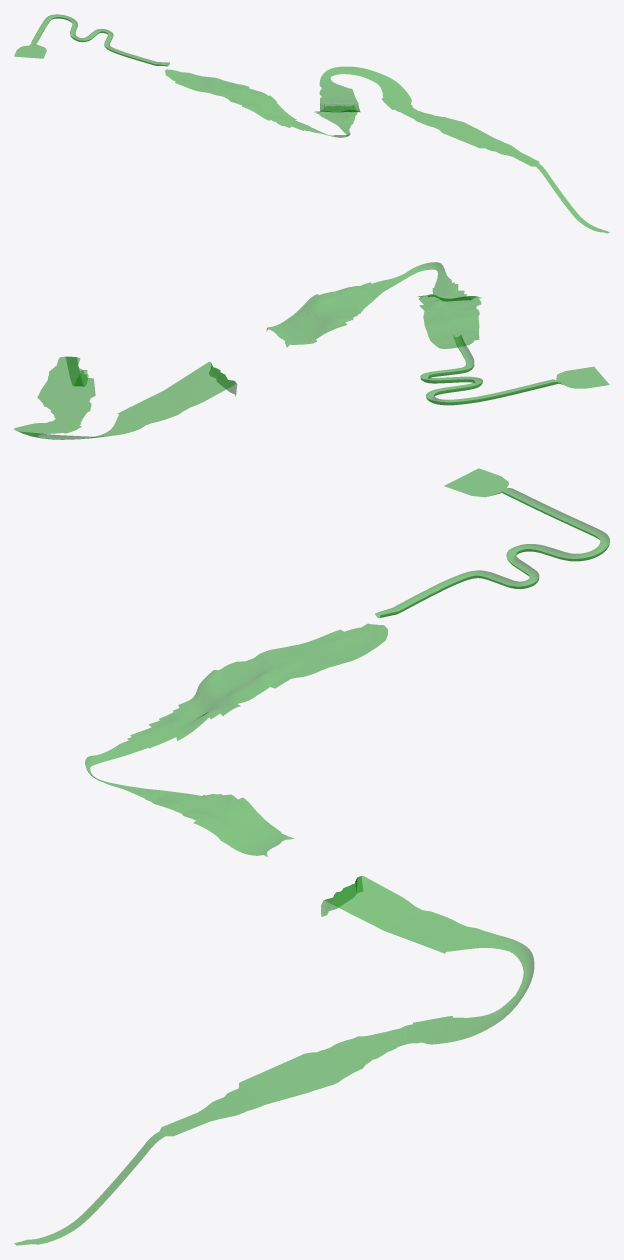
File: road_snow.obj
The picture shows the model from 3 angles, top to bottom: view 1: azimuth 30°, elevation 25°; view 2: azimuth 150°, elevation 25°; view 3: azimuth 270°, elevation 25°; orthographic projection. The views are drawn at different scales.
Bounding box in the file's own units: 1697 × 692 × 1024.
